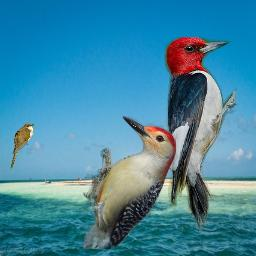Cuckoo: (10, 123, 35, 169)
Woodpecker: (161, 37, 243, 234), (83, 116, 176, 249)
